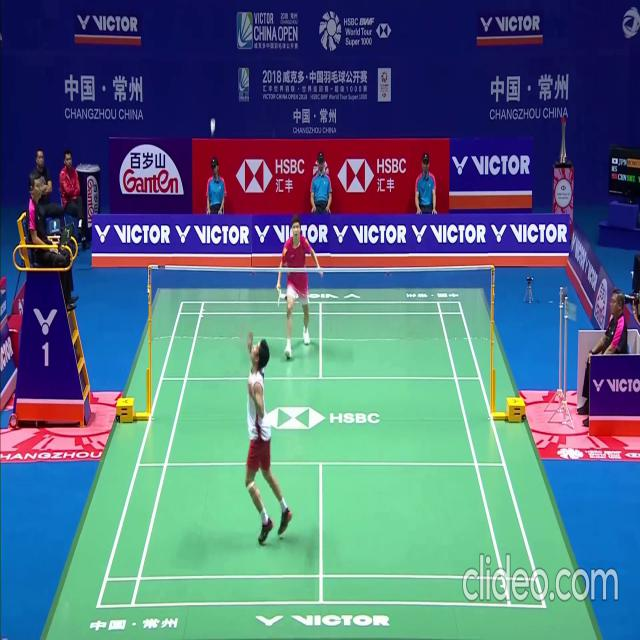Shuttlecock: (210, 127, 215, 135)
